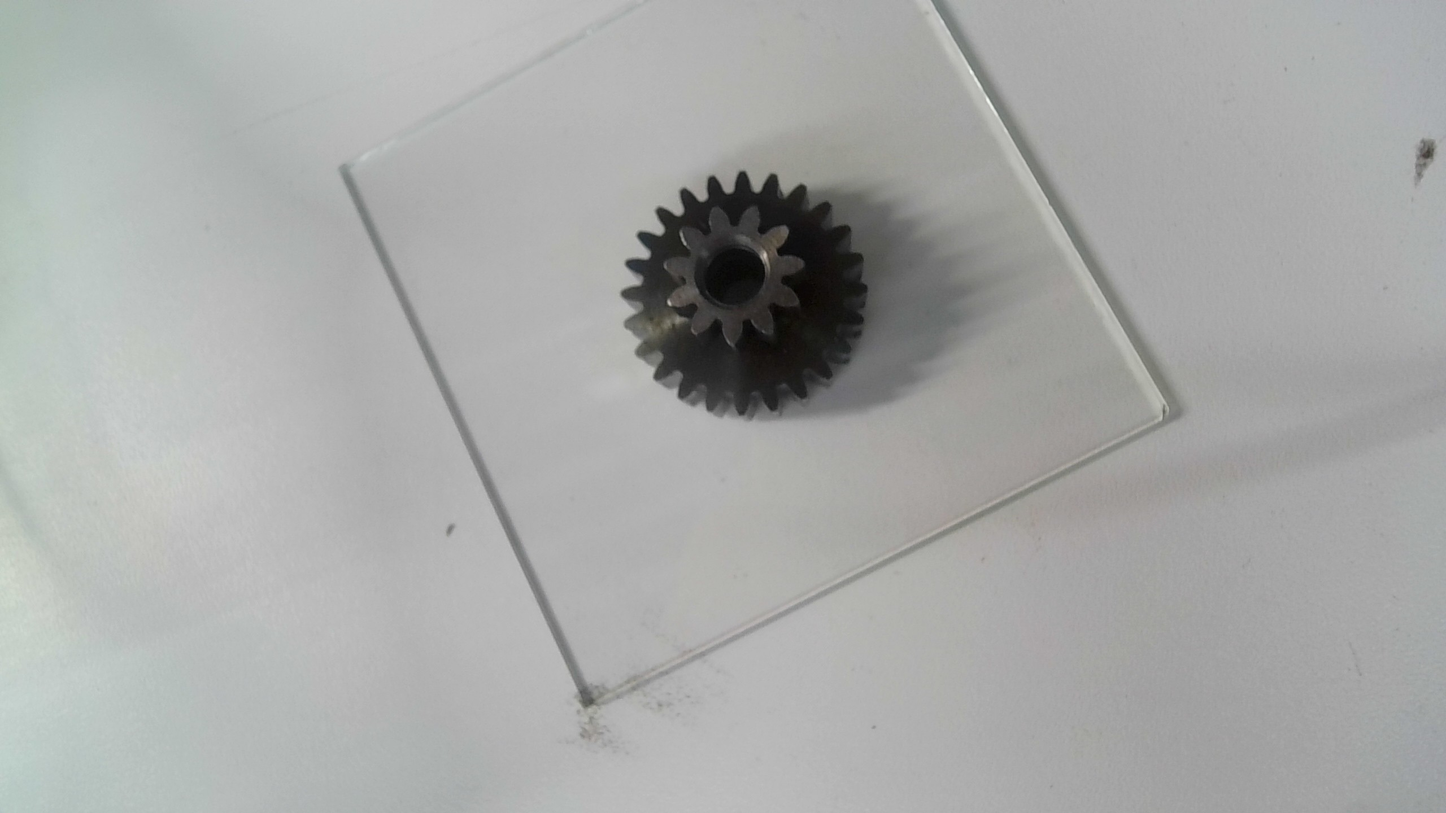gear: (616, 172, 874, 425)
